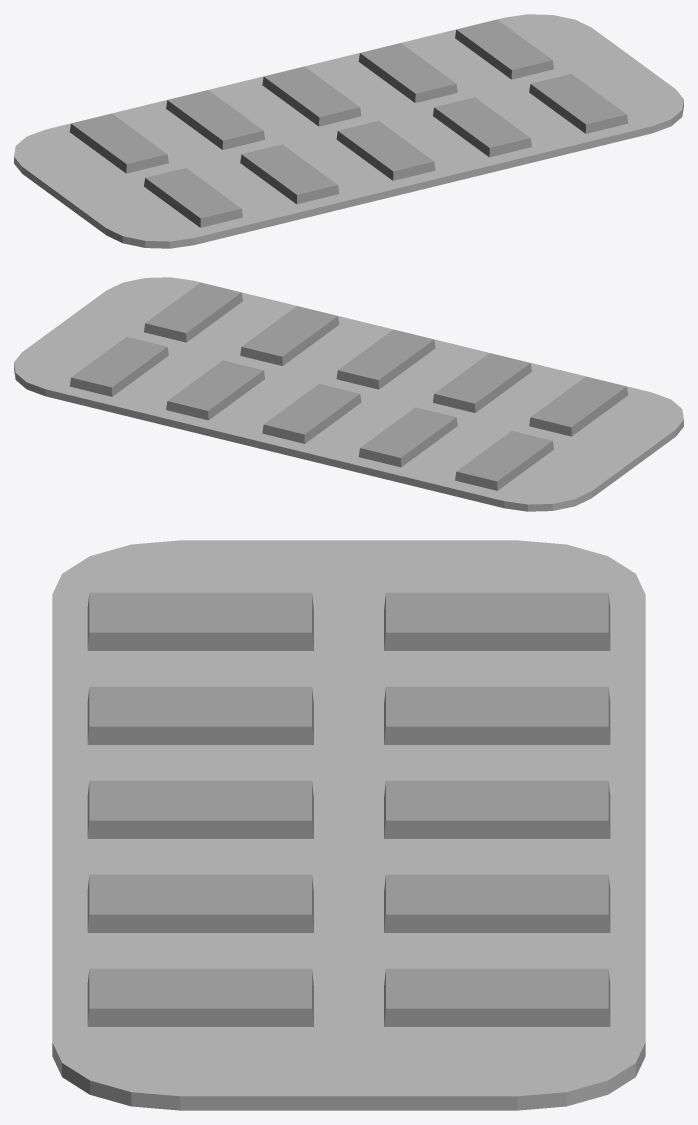
The model's file is Midicine_02.fbx.
3 renders of one model, top to bottom at view 1: azimuth 30°, elevation 25°; view 2: azimuth 150°, elevation 25°; view 3: azimuth 270°, elevation 25°, orthographic. The views are drawn at different scales.
Visible parts, largest first — view 1: Midicine_02; view 2: Midicine_02; view 3: Midicine_02.
Part boxes in pixels (x1,y1,x2,y2): Midicine_02: (14, 14, 683, 248); Midicine_02: (14, 277, 683, 511); Midicine_02: (52, 540, 645, 1110).
Bounding box in the file's own units: 18.92 × 0.5092 × 8.53.
